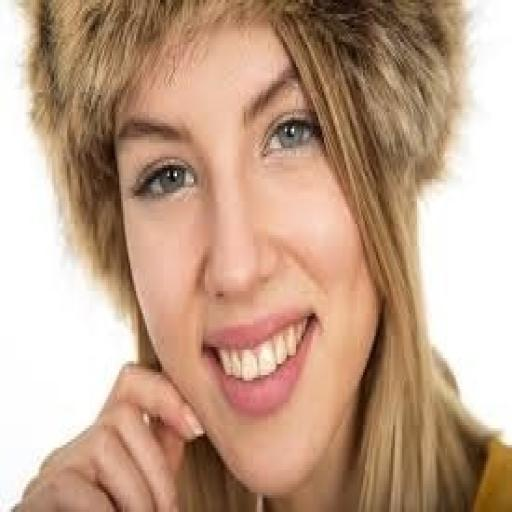laughing: (2, 0, 510, 509)
